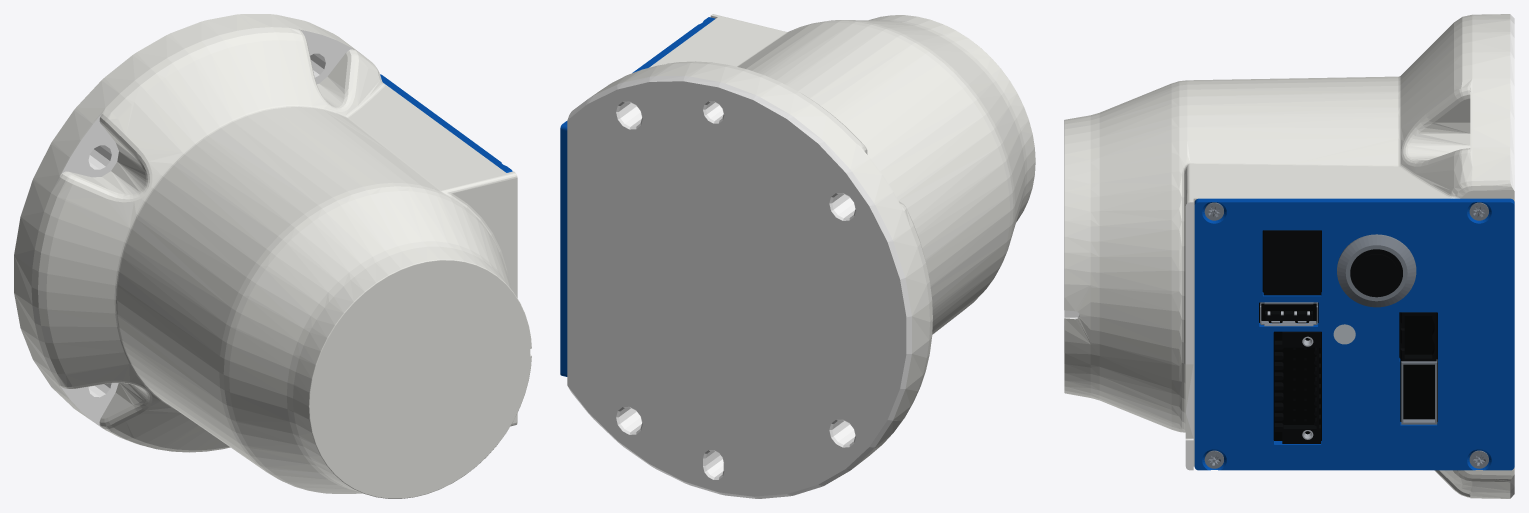
3 renders of one model, left to right at view 1: azimuth 30°, elevation 25°; view 2: azimuth 150°, elevation 25°; view 3: azimuth 270°, elevation 25°, orthographic. The views are drawn at different scales.
Parts seen in each view (by area): view 1: base_link; view 2: base_link; view 3: base_link.
Part boxes in pixels (<box>): base_link: <box>14,14,531,498</box>; base_link: <box>560,14,1035,498</box>; base_link: <box>1064,14,1514,498</box>.
Size of the model in its own units: 0.0991 by 0.1099 by 0.102.
